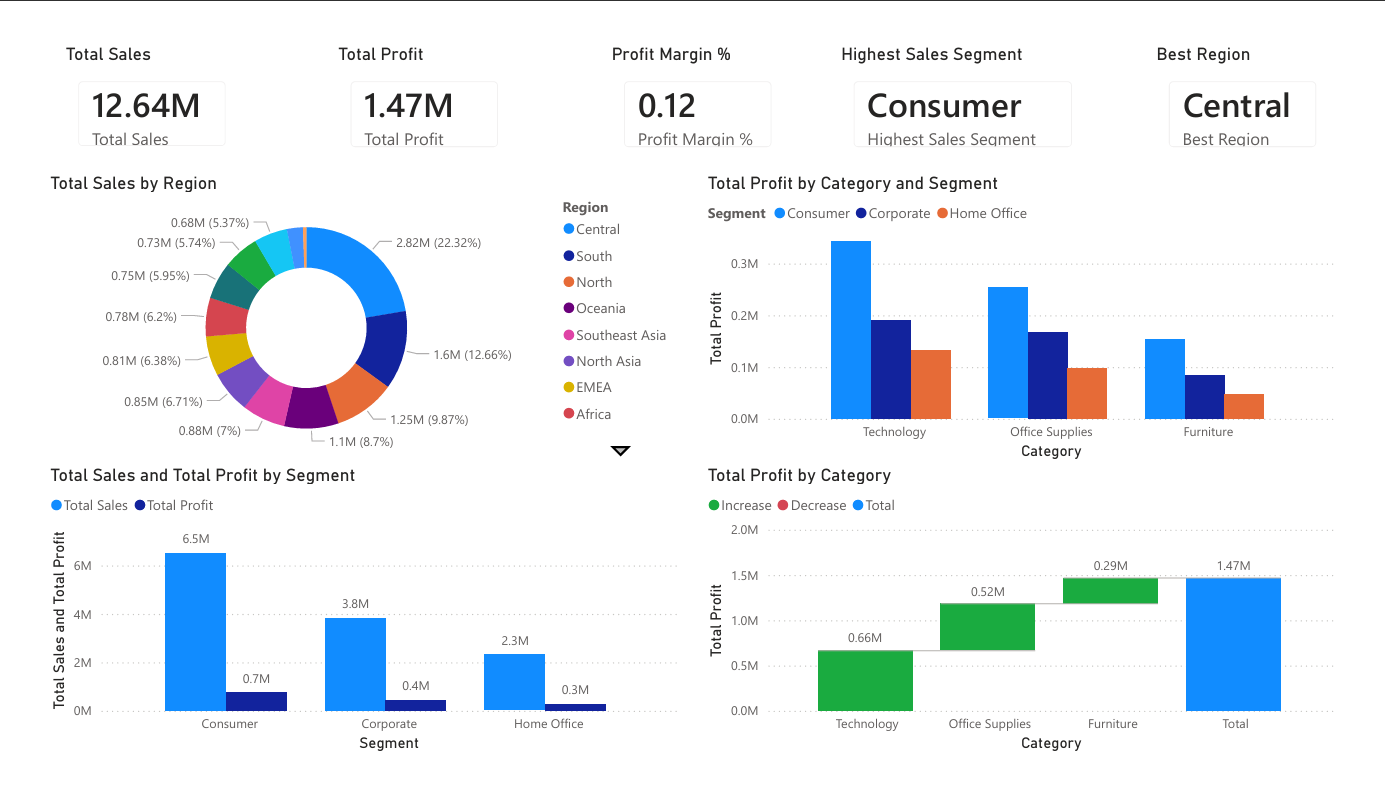

Layout of this report page (visuals, bound fields, positions):
{"tool":"powerbi","page":{"name":"Executive Insights & Strategic Overview","canvas":[1280,720],"ordinal":4},"visuals":[{"type":"donutChart","fields":{"Y":["Orders.Total Sales"],"Category":["Orders.Region"]},"box":[20,140,610,280],"z":0},{"type":"clusteredColumnChart","fields":{"Category":["Orders.Segment"],"Y":["Orders.Total Sales","Orders.Total Profit"]},"box":[20,420,610,280],"z":1000},{"type":"cardVisual","title":"Total Sales","fields":{"Data":["Orders.Total Sales"]},"box":[20,14,195,124],"z":2000},{"type":"cardVisual","title":"Total Profit","fields":{"Data":["Orders.Total Profit"]},"box":[281.2,14,195,125],"z":3000},{"type":"cardVisual","title":"Profit Margin %","fields":{"Data":["Orders.Profit Margin %"]},"box":[542.5,14,195,125],"z":4000},{"type":"cardVisual","title":"Highest Sales Segment","fields":{"Data":["Orders.Highest Sales Segment"]},"box":[763.2,14.4,262.6,124.1],"z":5000},{"type":"cardVisual","title":"Best Region","fields":{"Data":["Orders.Best Region"]},"box":[1065,14,195,125],"z":6000},{"type":"clusteredColumnChart","fields":{"Category":["Orders.Category"],"Y":["Orders.Total Profit"],"Series":["Orders.Segment"]},"box":[650,140,610,280],"z":7000},{"type":"waterfallChart","fields":{"Category":["Orders.Category"],"Y":["Orders.Total Profit"]},"box":[650,420,610,280],"z":8000}]}

Visuals, with their boxes in screenshot pixels (x1, y1, x2, y2), scaled from the page's 1280x720 canvas onto the 1385x802 screenshot:
donutChart - Orders.Total Sales x Orders.Region: l=22, t=156, r=682, b=468
clusteredColumnChart - Orders.Segment x Orders.Total Sales: l=22, t=468, r=682, b=780
"Total Sales" cardVisual: l=22, t=16, r=233, b=154
"Total Profit" cardVisual: l=304, t=16, r=515, b=155
"Profit Margin %" cardVisual: l=587, t=16, r=798, b=155
"Highest Sales Segment" cardVisual: l=826, t=16, r=1110, b=154
"Best Region" cardVisual: l=1152, t=16, r=1363, b=155
clusteredColumnChart - Orders.Category x Orders.Total Profit: l=703, t=156, r=1363, b=468
waterfallChart - Orders.Category x Orders.Total Profit: l=703, t=468, r=1363, b=780
